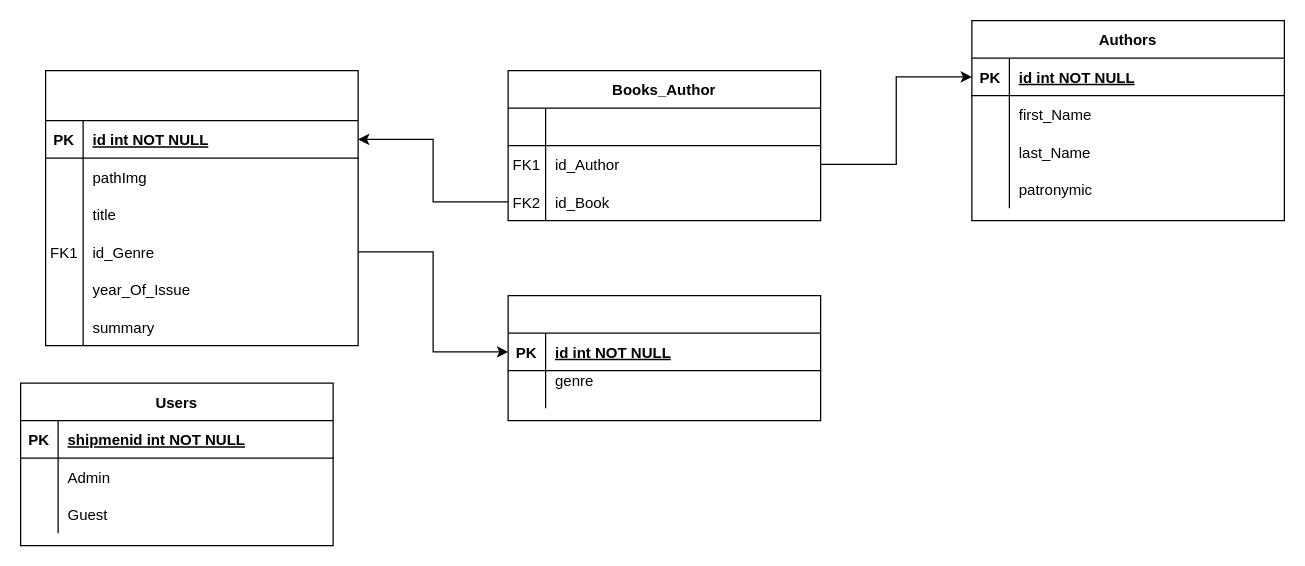
This 1305x566 diagram has some shape labels left out. The box of each missing label's shape, as (x1, y1, x2, y2) in pixels:
Books: (44, 69, 358, 346)
Genres: (507, 294, 821, 421)
